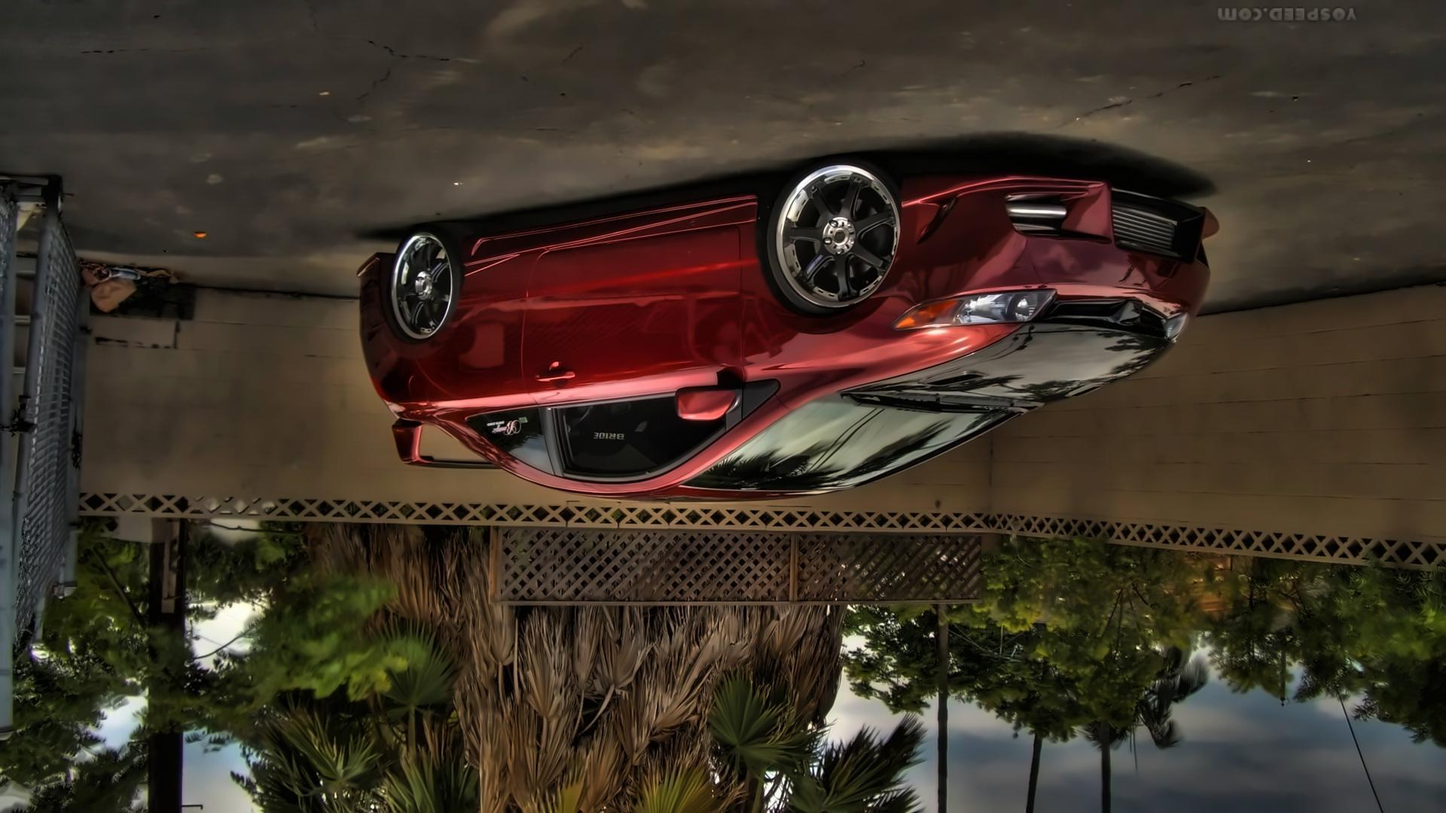Car hood: (839, 286, 1171, 422)
Fender - -F-L-: (729, 192, 977, 425)
Fender - -R-L-: (372, 235, 548, 430)
Front bumper: (869, 172, 1235, 340)
Headlight - -L-: (887, 280, 1060, 334)
Headlight - -R-: (1159, 311, 1196, 343)
Passenger-s door - -F-L-: (503, 175, 774, 504)
Rear bumper: (342, 244, 413, 382)
Side bumper - -L-: (463, 181, 770, 308)
Side mirror - -L-: (667, 375, 750, 427)
